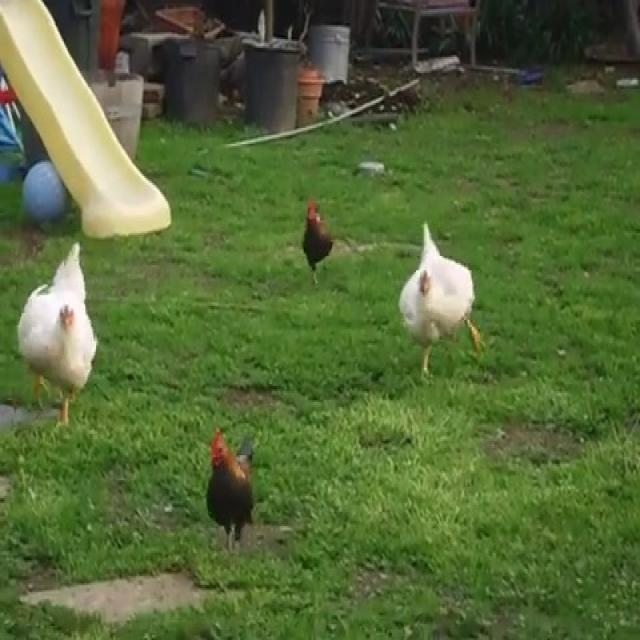running: (392, 215, 492, 379), (20, 237, 103, 430), (196, 430, 264, 550), (296, 199, 336, 279)
